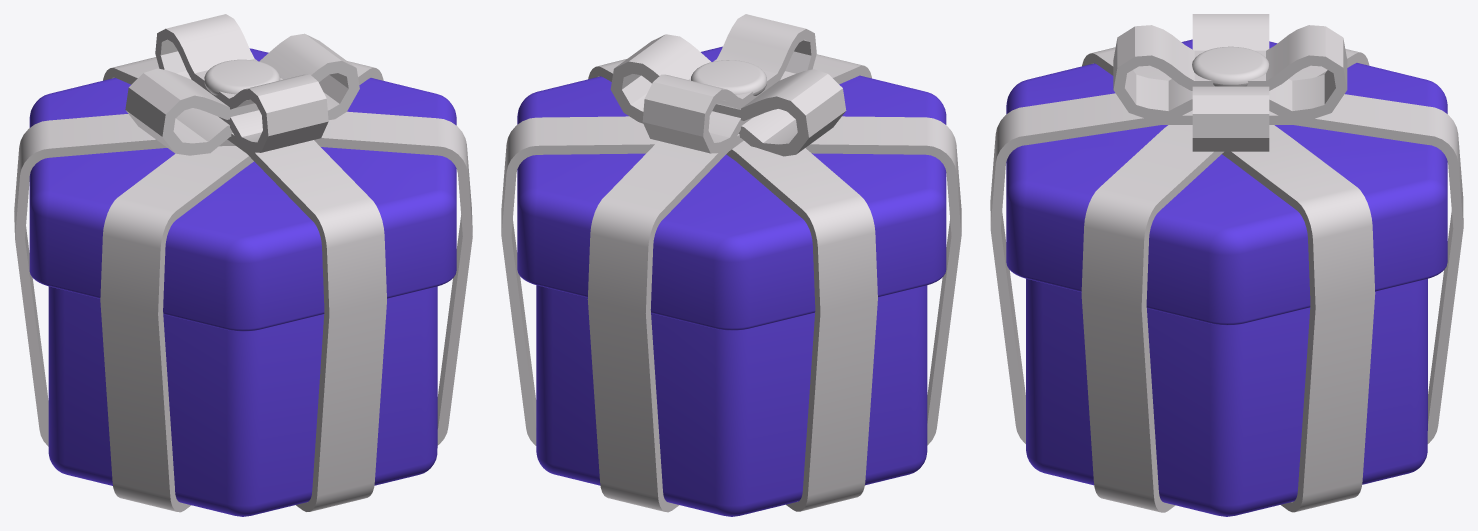
File: present4.glb
The picture shows the model from 3 angles, left to right: view 1: azimuth 30°, elevation 25°; view 2: azimuth 150°, elevation 25°; view 3: azimuth 270°, elevation 25°; orthographic projection. The views are drawn at different scales.
Parts seen in each view (by area): view 1: Box.001, Box, Ribbon.003, Ribbon.001, Ribbon.002, Ribbon.004, Ribbon, Ribbon.005; view 2: Box.001, Box, Ribbon.003, Ribbon.002, Ribbon.001, Ribbon.004, Ribbon, Ribbon.005; view 3: Box.001, Box, Ribbon.002, Ribbon.001, Ribbon.003, Ribbon, Ribbon.004, Ribbon.005.
Part boxes in pixels (<box>): Box.001: <box>29,48,456,331</box>; Box: <box>48,286,437,516</box>; Ribbon.003: <box>103,57,386,511</box>; Ribbon.001: <box>100,61,383,512</box>; Ribbon.002: <box>14,111,472,446</box>; Ribbon.004: <box>125,33,359,155</box>; Ribbon: <box>155,14,328,152</box>; Ribbon.005: <box>204,59,280,95</box>; Box.001: <box>517,46,946,330</box>; Box: <box>536,285,927,516</box>; Ribbon.003: <box>587,54,871,512</box>; Ribbon.002: <box>588,59,877,511</box>; Ribbon.001: <box>501,116,961,445</box>; Ribbon.004: <box>610,34,846,156</box>; Ribbon: <box>642,14,816,153</box>; Ribbon.005: <box>691,60,766,95</box>; Box.001: <box>1006,39,1447,325</box>; Box: <box>1026,278,1427,516</box>; Ribbon.002: <box>1081,49,1369,512</box>; Ribbon.001: <box>1082,47,1375,512</box>; Ribbon.003: <box>990,93,1463,443</box>; Ribbon: <box>1113,25,1347,121</box>; Ribbon.004: <box>1192,14,1269,151</box>; Ribbon.005: <box>1192,46,1268,86</box>.
Size of the model in its own units: 2.26 by 1.98 by 2.14.
